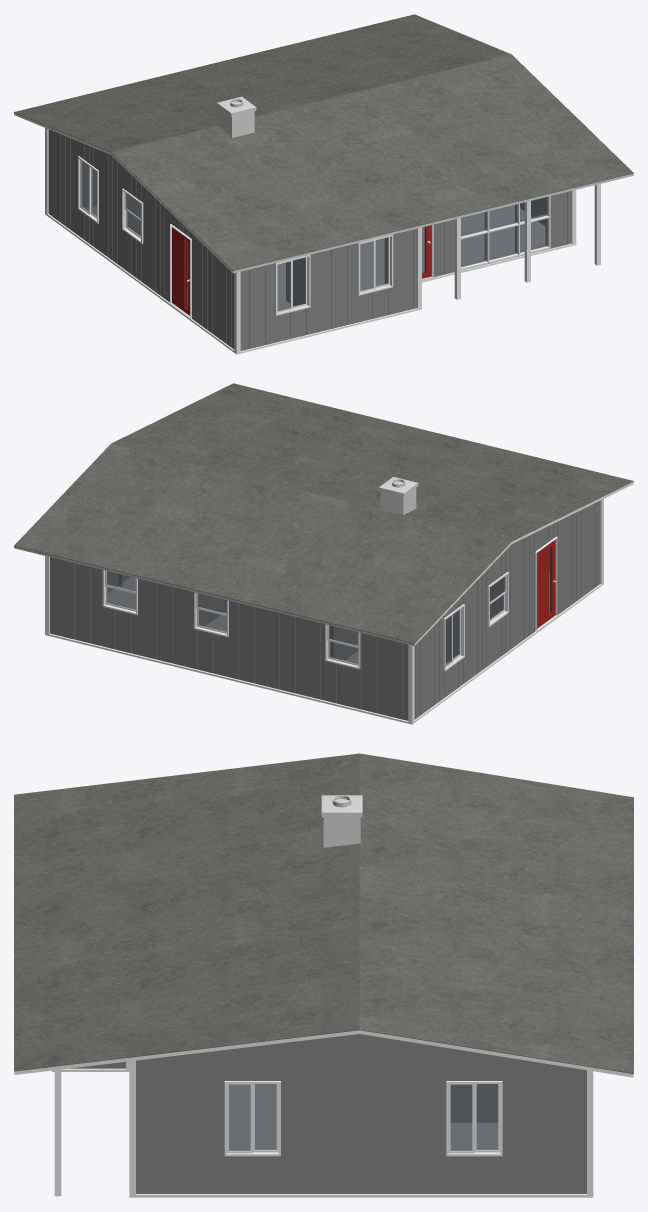
File: house_ranch.glb
3 views of the same model, one above another, from view 1: azimuth 30°, elevation 25°; view 2: azimuth 150°, elevation 25°; view 3: azimuth 270°, elevation 25° (orthographic). The views are drawn at different scales.
Bounding box in the file's own units: 10.46 × 3.81 × 9.92.
7 materials, 2 textured.
